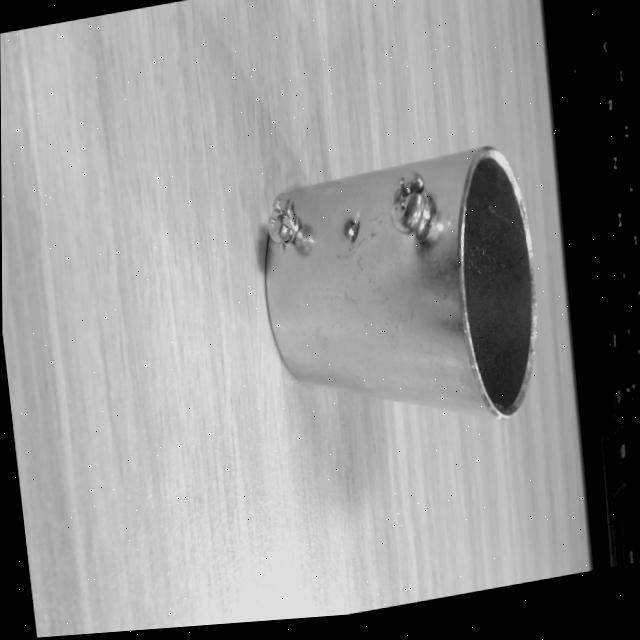Co_Nho: (251, 141, 552, 445)
